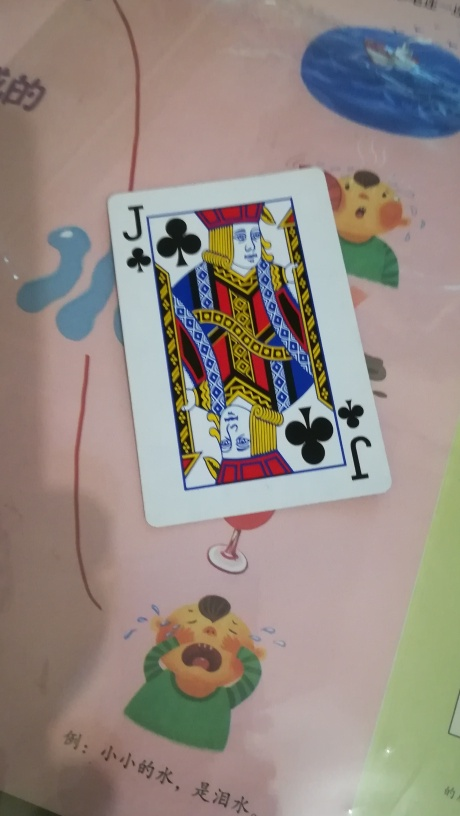mh j: (104, 167, 389, 527)
